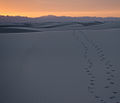human_footprint: (82, 34, 119, 102), (73, 34, 106, 102)
